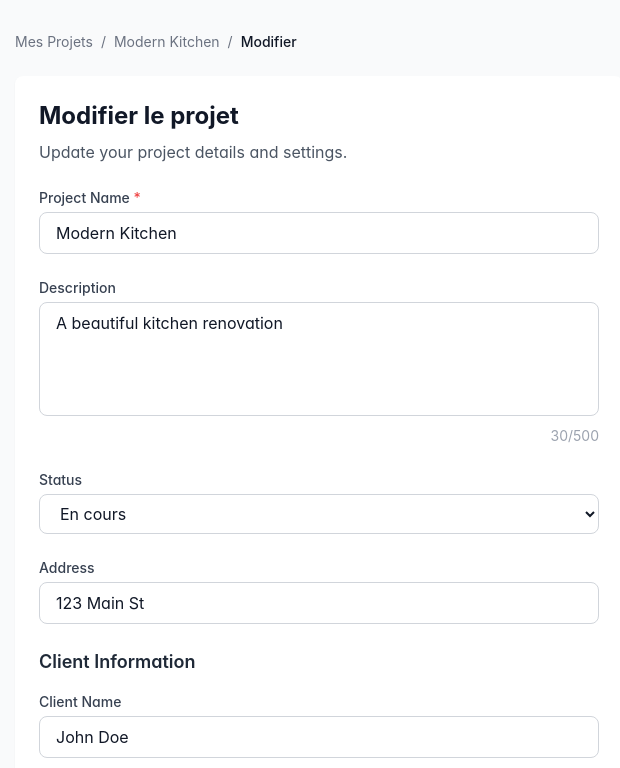
Test: ProjectEdit › Form Validation › should show error when name is too short
Step 1. Replace the text in the field labelled "Project Name *" with "AB" → (319, 233), box [39,212,599,254]
(page scrolled)
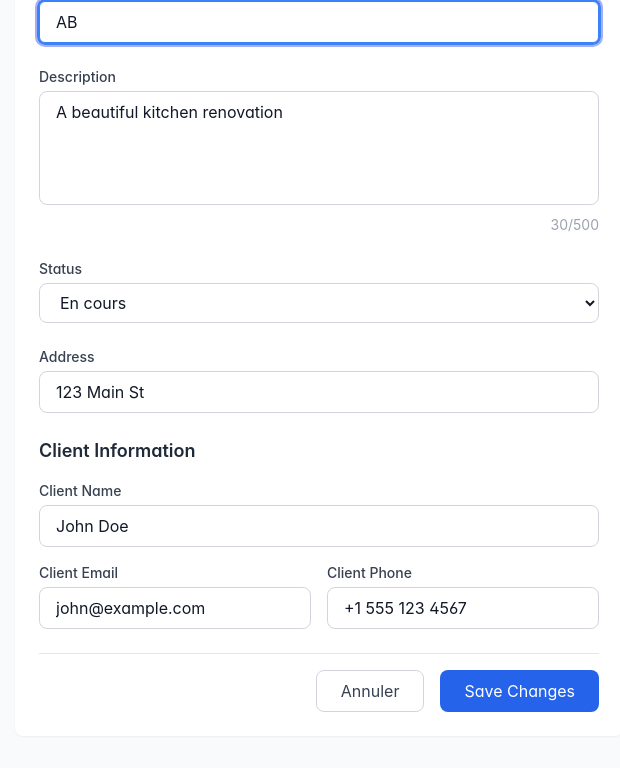
Step 2. Click the button "Save Changes" → click(520, 691), box [440,670,599,712]
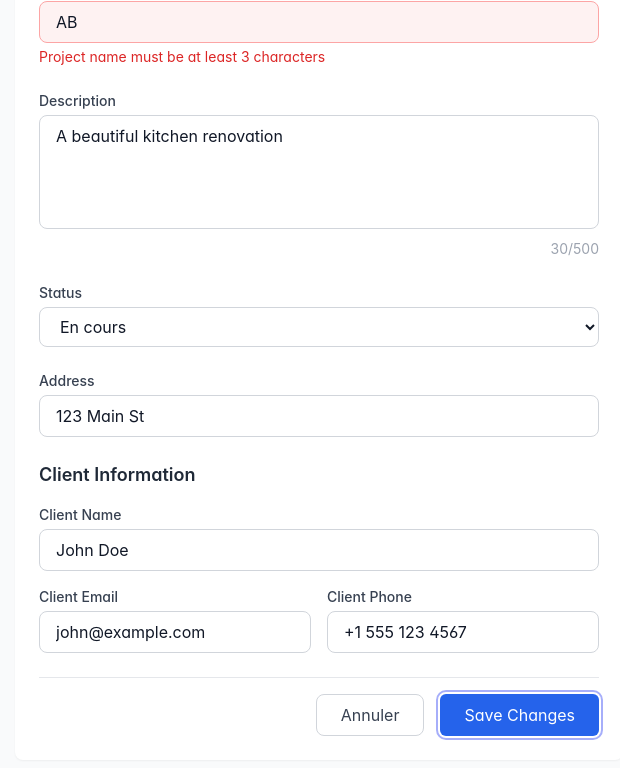
expect the text "Project name must be at least 3 characters" is shown: met, box [39,48,325,65]
